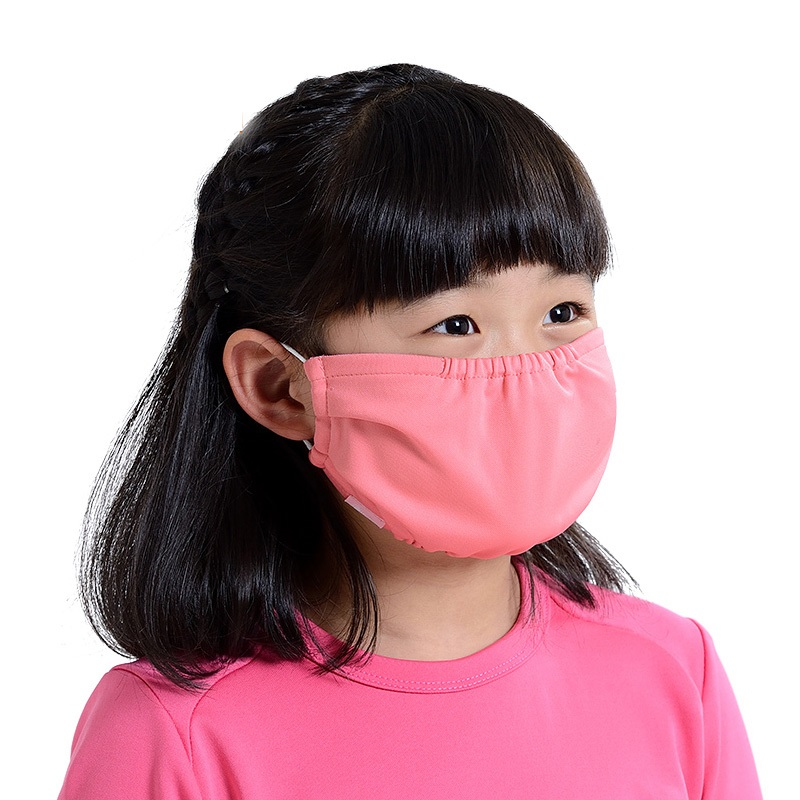face_mask: (338, 211, 620, 561)
